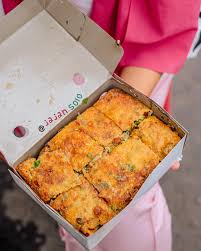Martabak telur: (12, 144, 77, 201), (53, 180, 117, 237), (85, 156, 143, 210), (94, 86, 158, 134), (71, 100, 129, 151), (43, 122, 104, 168), (134, 108, 183, 163), (107, 136, 170, 174)
